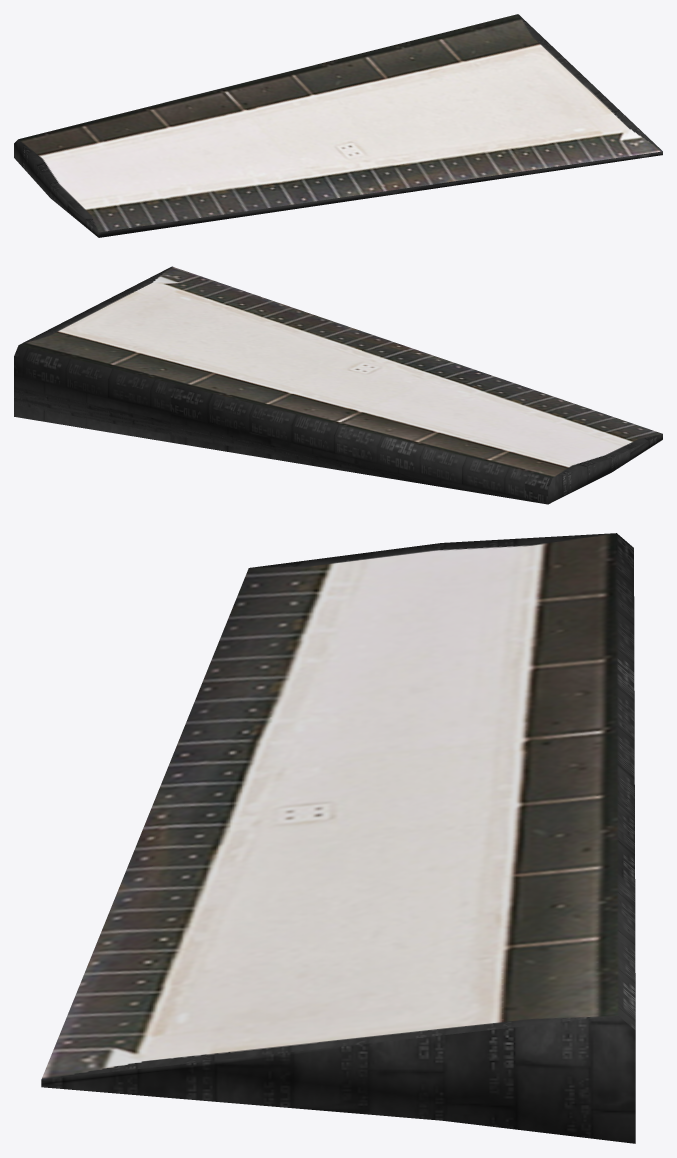
File: aileron.fbx
3 renders of one model, top to bottom at view 1: azimuth 30°, elevation 25°; view 2: azimuth 150°, elevation 25°; view 3: azimuth 270°, elevation 25°, orthographic. The views are drawn at different scales.
Parts seen in each view (by area): view 1: Aileron; view 2: Aileron; view 3: Aileron.
Part boxes in pixels (x1,y1,x2,y2): Aileron: [14, 14, 662, 237]; Aileron: [14, 266, 662, 504]; Aileron: [41, 533, 635, 1143].
Bounding box in the file's own units: 16.53 × 1.97 × 8.3.
Materials: 1 (1 with a texture image).
